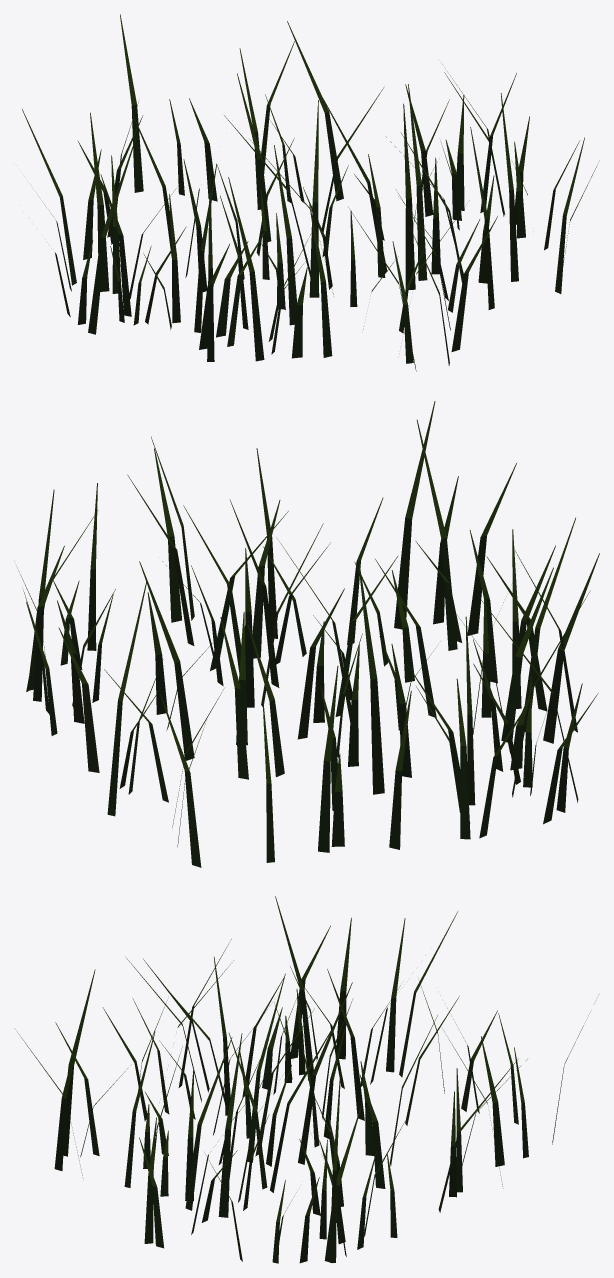
File: SM_Grass_Short.fbx
3 renders of one model, top to bottom at view 1: azimuth 30°, elevation 25°; view 2: azimuth 150°, elevation 25°; view 3: azimuth 270°, elevation 25°, orthographic. The views are drawn at different scales.
Visible parts, largest first — view 1: SM_Grass_Short; view 2: SM_Grass_Short; view 3: SM_Grass_Short.
Boxes of the visible parts, x1=… form: SM_Grass_Short: x1=22, y1=14, x2=599, y2=371; SM_Grass_Short: x1=16, y1=401, x2=599, y2=867; SM_Grass_Short: x1=14, y1=896, x2=590, y2=1263.
Bounding box in the file's own units: 66.72 × 70.13 × 22.06.
